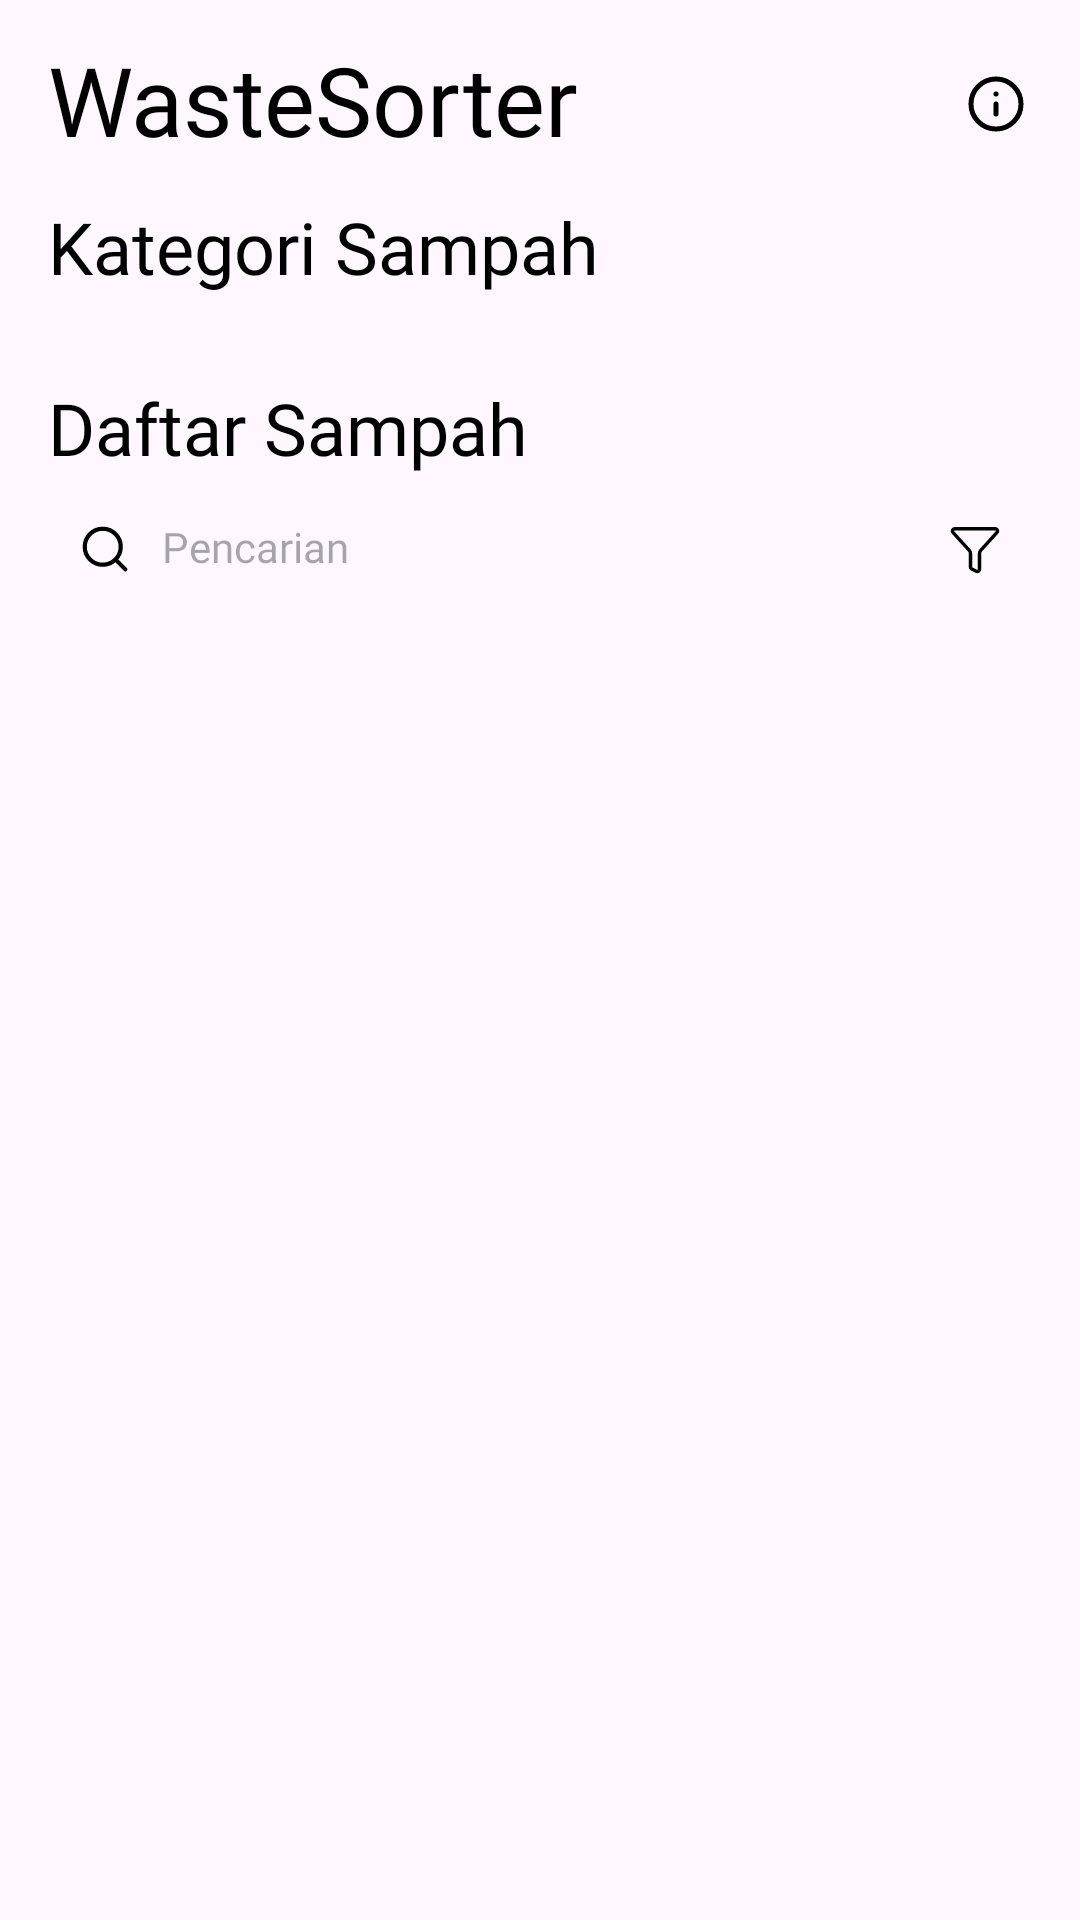

Named icons in this screenshot (1080*1920) and their centers, (x=x, y=y):
info: (x=996, y=104)
